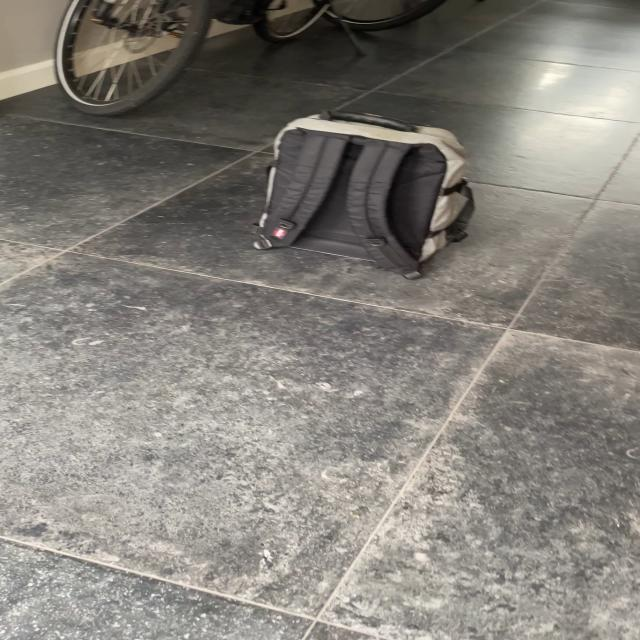backpack: (244, 104, 486, 274)
